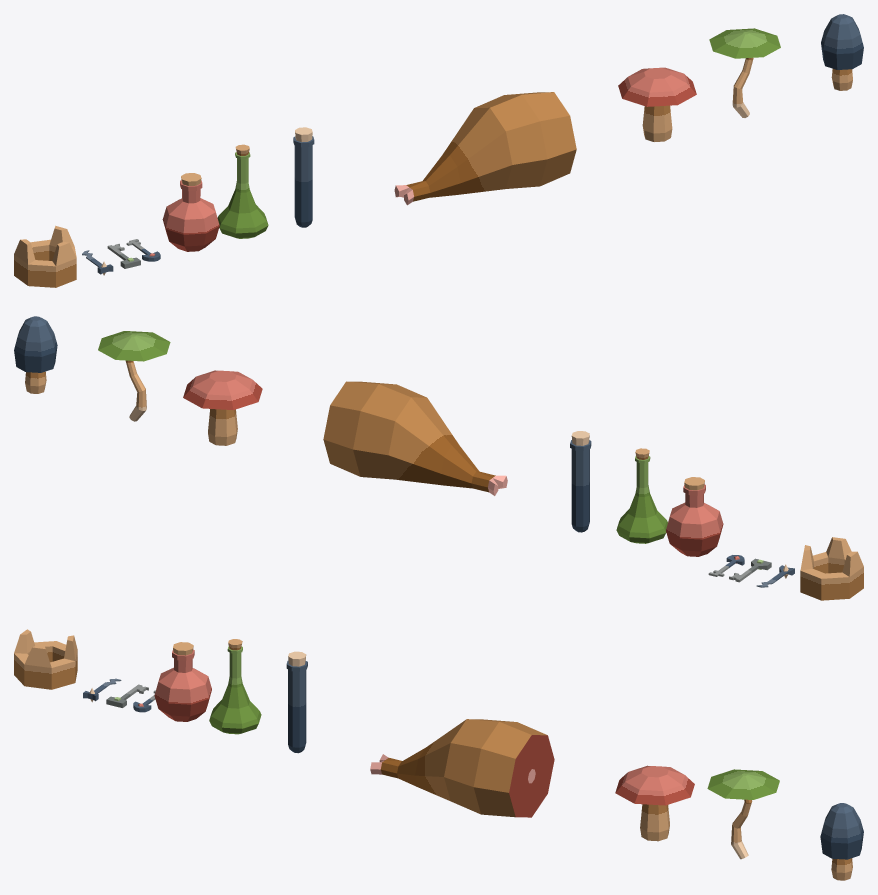
Rendered from Items.fbx.
The picture shows the model from 3 angles, top to bottom: view 1: azimuth 30°, elevation 25°; view 2: azimuth 150°, elevation 25°; view 3: azimuth 330°, elevation 25°; orthographic projection.
Parts seen in each view (by area): view 1: Meat, Mushroom_Red, Crown, Potion_Red, Mushromm_Blue, Poion_Green, Mushromm_Green, Potion_Blue; view 2: Meat, Mushroom_Red, Crown, Potion_Red, Mushromm_Blue, Poion_Green, Mushromm_Green, Potion_Blue; view 3: Meat, Mushroom_Red, Potion_Red, Crown, Mushromm_Blue, Poion_Green, Mushromm_Green, Potion_Blue.
Part boxes in pixels (box(x1,y1,x2,y2)): Meat: box(394, 92, 576, 205); Mushroom_Red: box(618, 67, 696, 141); Crown: box(14, 225, 76, 287); Potion_Red: box(162, 173, 219, 251); Mushromm_Blue: box(821, 14, 863, 90); Poion_Green: box(217, 144, 268, 238); Mushromm_Green: box(709, 28, 780, 117); Potion_Blue: box(293, 127, 314, 227); Meat: box(323, 381, 507, 495); Mushroom_Red: box(183, 370, 262, 445); Crown: box(800, 537, 863, 600); Potion_Red: box(666, 477, 723, 556); Mushromm_Blue: box(14, 316, 57, 393); Poion_Green: box(616, 448, 667, 543); Mushromm_Green: box(98, 331, 170, 421); Potion_Blue: box(570, 431, 591, 532); Meat: box(370, 719, 554, 817); Mushroom_Red: box(615, 765, 694, 841); Potion_Red: box(154, 642, 211, 721); Crown: box(14, 629, 77, 689); Mushromm_Blue: box(820, 803, 863, 880); Poion_Green: box(209, 639, 261, 734); Mushromm_Green: box(707, 769, 779, 859); Potion_Blue: box(286, 651, 307, 753).
Size of the model in its own units: 10396 by 1140 by 1196.
